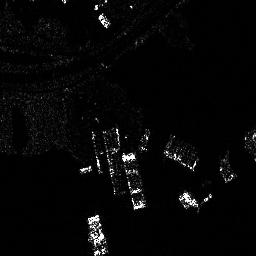ship: (121, 151, 149, 210), (89, 215, 109, 256), (163, 148, 196, 170)
